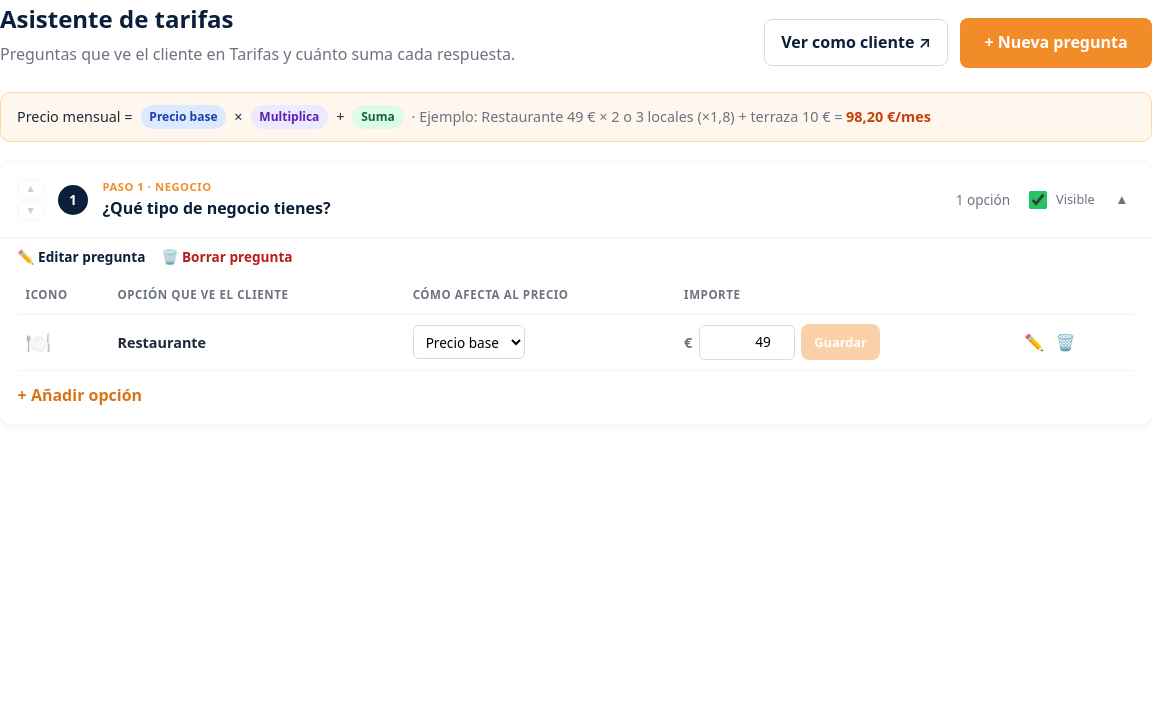
it: admin screens › Tarifas: creates a new question at the end of the wizard
The image size is (1152, 720).
Click the button "+ Nueva pregunta" at [1056, 43], box [960,18,1151,68]
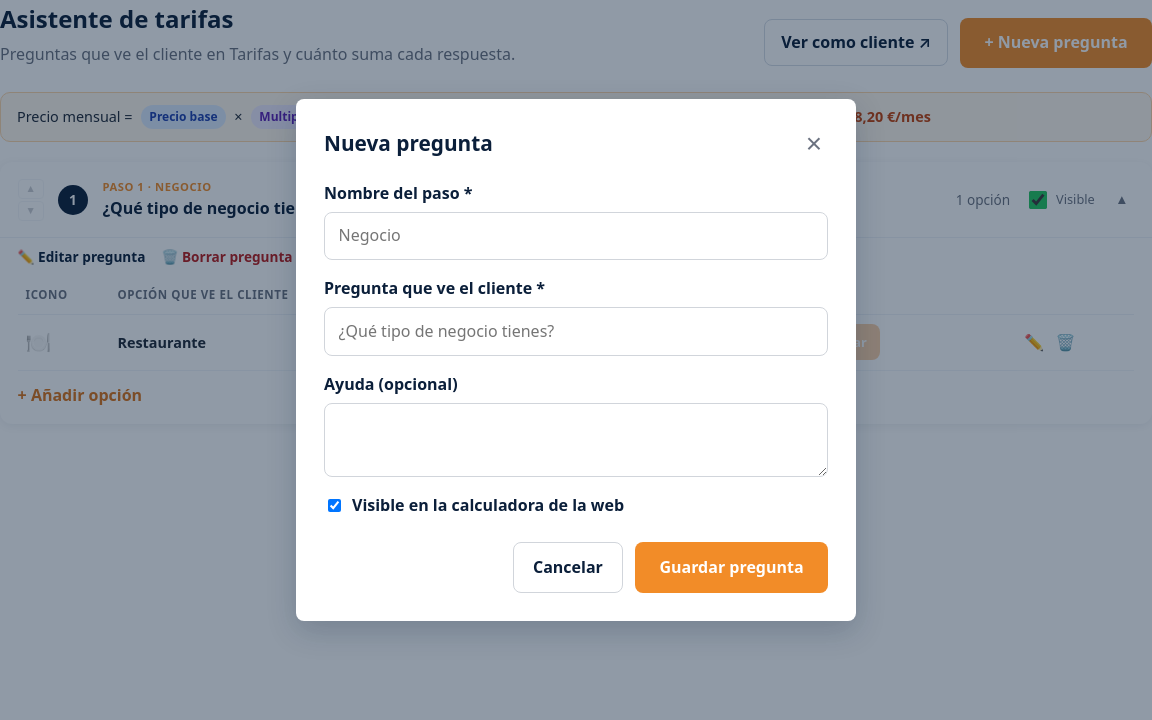
Type "Locales" into the field labelled "Nombre del paso *" at [576, 236], box [324,212,828,260]
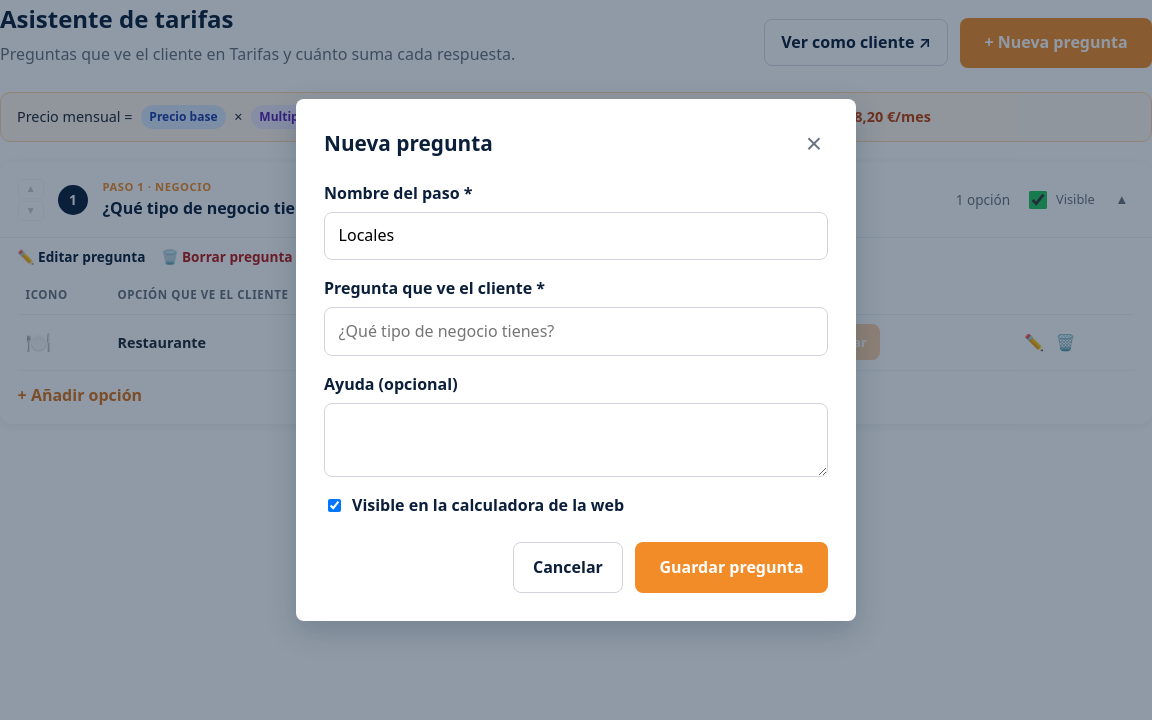
Type "¿Cuántos locales tienes?" into the field labelled "Pregunta que ve el cliente *" at [576, 332], box [324,307,828,356]
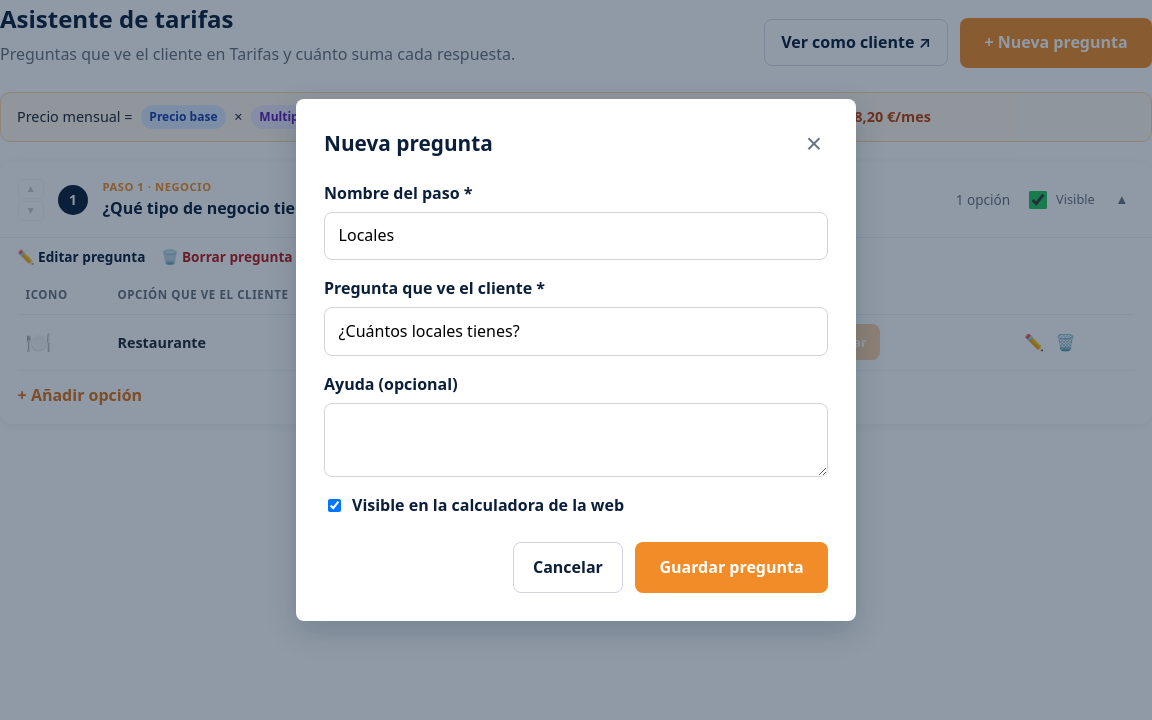
Submit the form with class "admin-form", box [324,180,828,593]
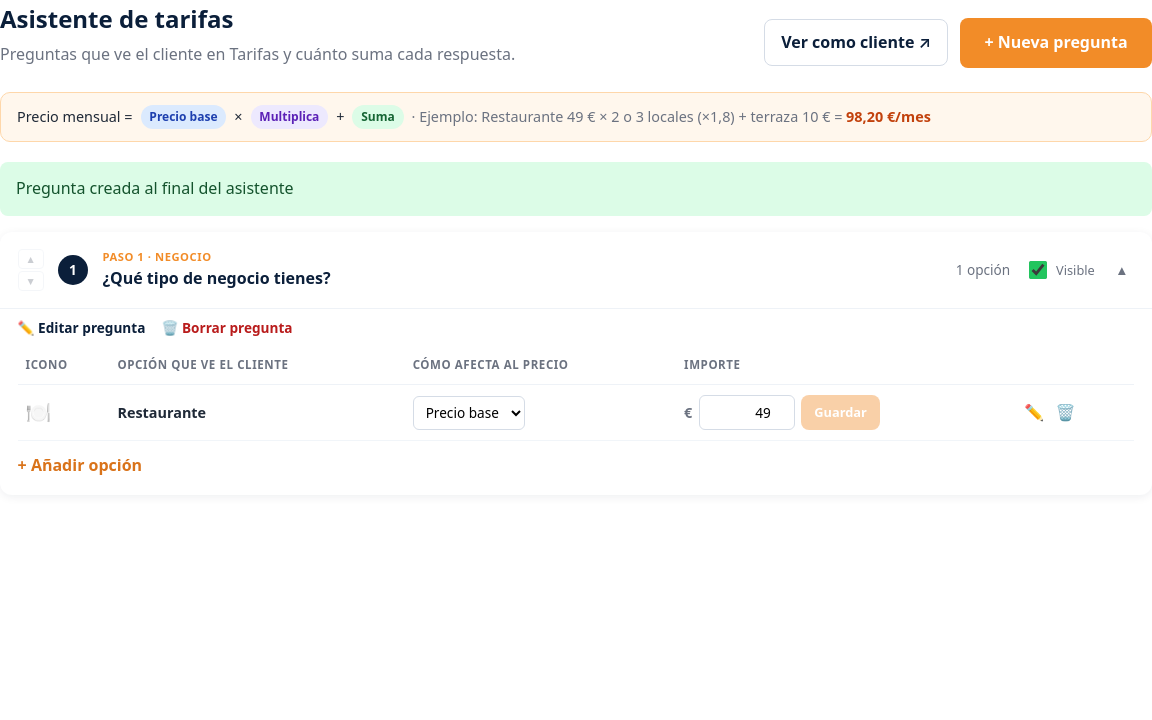
Check: the message "Pregunta creada al final del asistente" is shown, box [0,162,1151,216]
